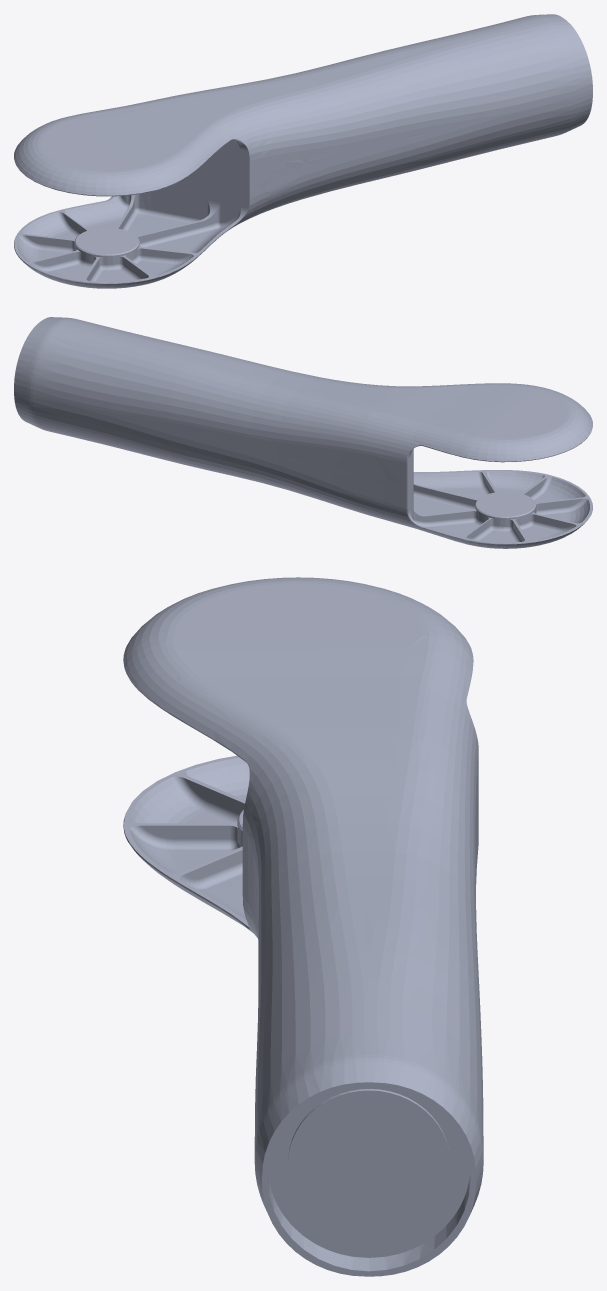
Rendered from left_elbow_link.obj.
3 renders of one model, top to bottom at view 1: azimuth 30°, elevation 25°; view 2: azimuth 150°, elevation 25°; view 3: azimuth 270°, elevation 25°, orthographic. The views are drawn at different scales.
Parts seen in each view (by area): view 1: left_elbow_link-mesh; view 2: left_elbow_link-mesh; view 3: left_elbow_link-mesh.
Part boxes in pixels (box(x1,y1,x2,y2)): left_elbow_link-mesh: box(14, 14, 592, 288); left_elbow_link-mesh: box(14, 317, 592, 548); left_elbow_link-mesh: box(123, 577, 483, 1276).
Size of the model in its own units: 0.3158 by 0.062 by 0.0942.
